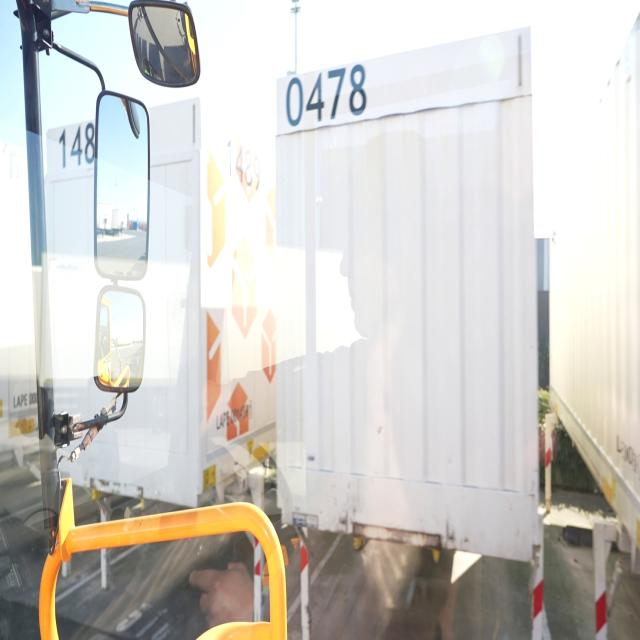Code: (282, 58, 370, 129)
